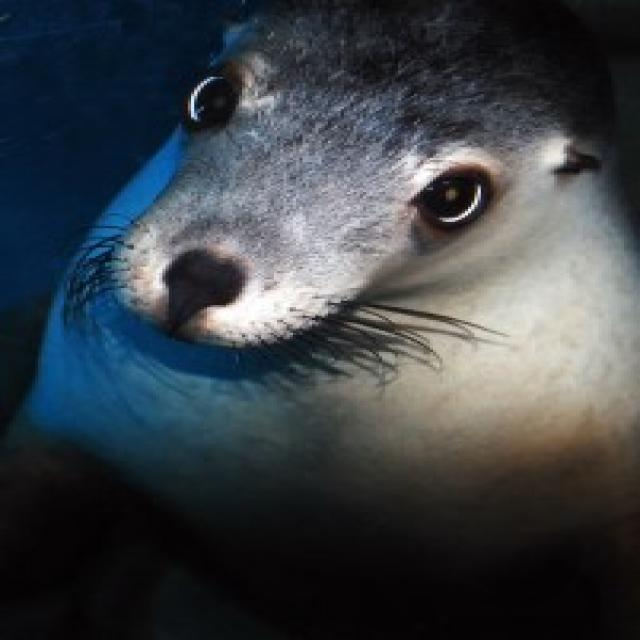Seal: (44, 3, 640, 640)
